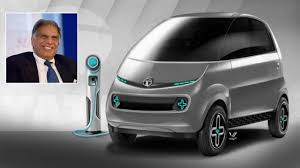Nano: (106, 11, 291, 157)
